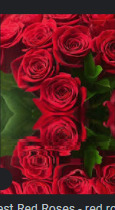RedRose: (12, 48, 57, 92), (36, 75, 86, 113), (12, 138, 57, 180), (39, 113, 84, 154), (53, 26, 95, 65), (54, 165, 95, 199), (92, 31, 115, 73), (23, 23, 56, 50)
